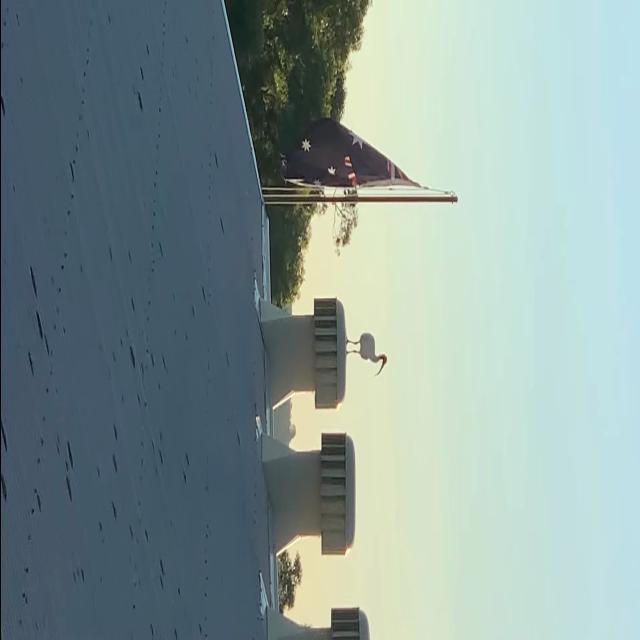Birds-Ibis: (344, 329, 388, 379)
